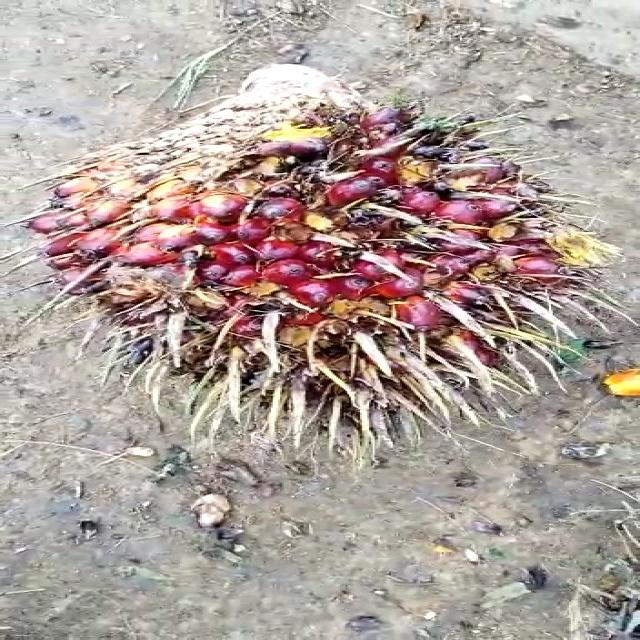palm oil: (29, 65, 613, 430)
